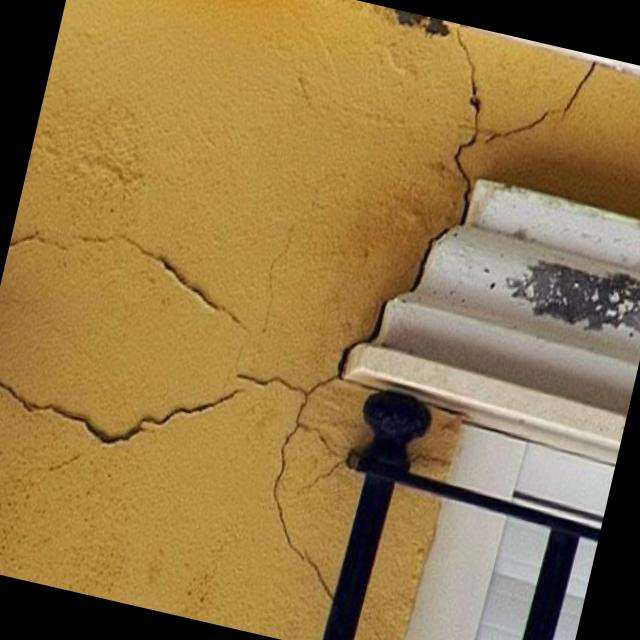crack: (233, 118, 480, 600), (0, 381, 245, 449), (76, 235, 246, 332), (480, 111, 561, 146), (454, 30, 482, 121), (559, 63, 596, 122), (8, 231, 71, 253)
